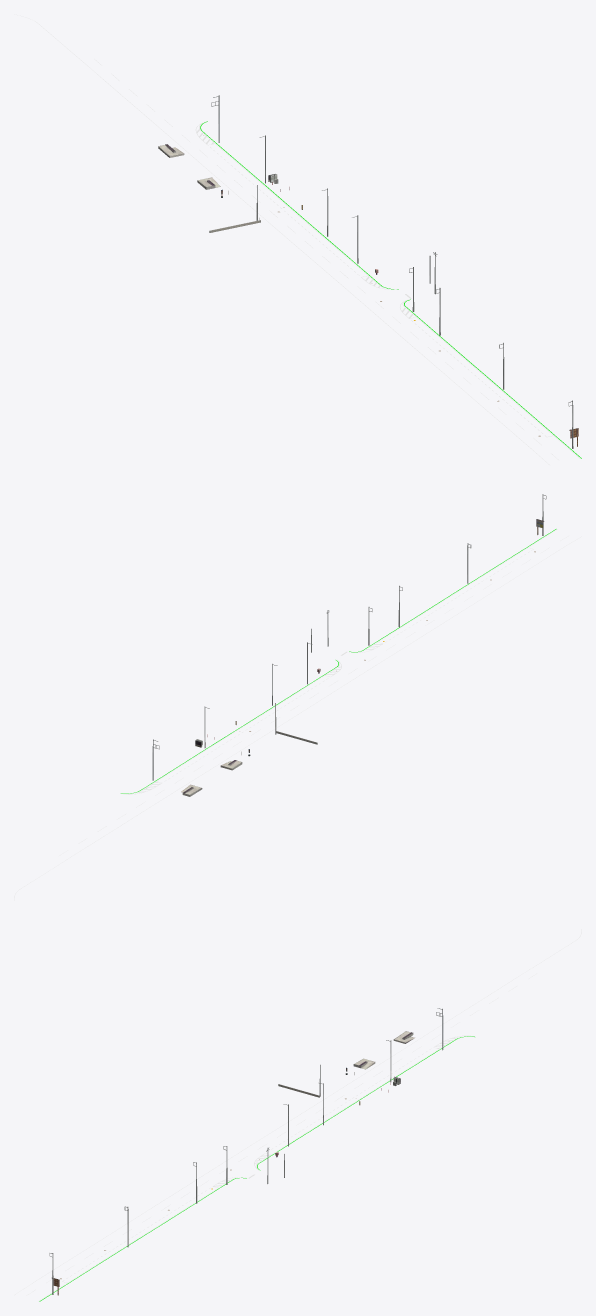
Rendered from frn--2.glb.
3 views of the same model, one above another, from view 1: azimuth 30°, elevation 25°; view 2: azimuth 150°, elevation 25°; view 3: azimuth 330°, elevation 25° (orthographic). The views are drawn at different scales.
Bounding box in the file's own units: 33.08 × 13.53 × 299.
2 materials, 1 textured.
